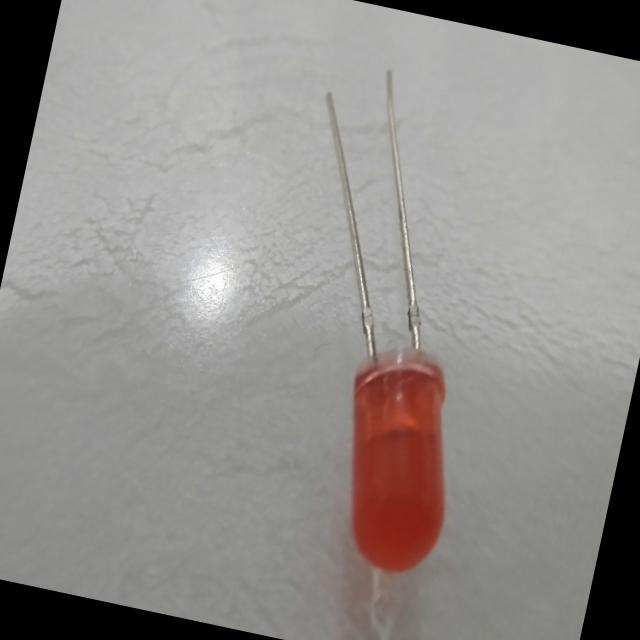red_led: (287, 323, 510, 608)
